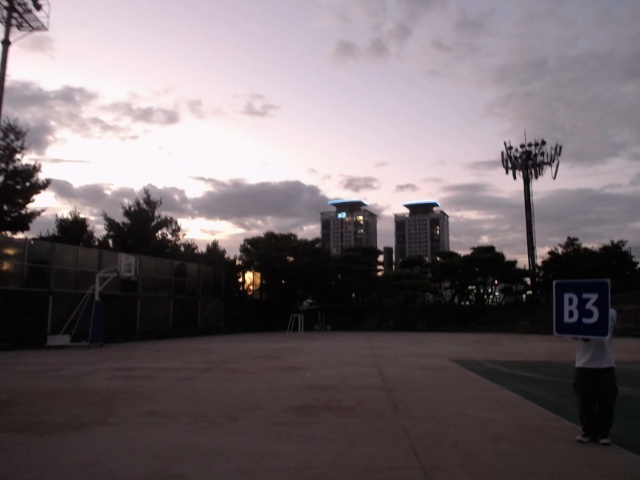delivery_b3: (553, 278, 610, 340)
